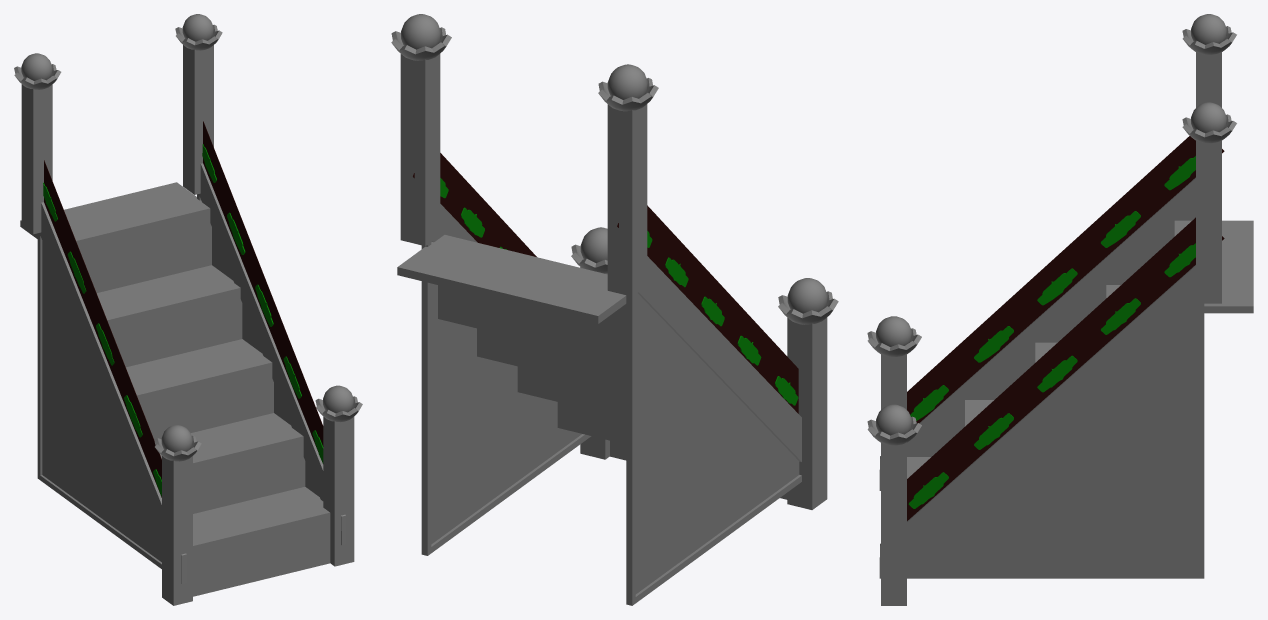
Rendered from Throne_Stair_gr.fbx.
3 renders of one model, left to right at view 1: azimuth 30°, elevation 25°; view 2: azimuth 150°, elevation 25°; view 3: azimuth 270°, elevation 25°, orthographic. The views are drawn at different scales.
Parts seen in each view (by area): view 1: Throne_Stair_F006, Throne_StairWall_013, Throne_StairWall_014, Group_7379, Throne_StairWall021, Throne_StairWall020, Group_7378, Group_7377, Group_7376, Throne_Stair_gr, Sphere087, Sphere093 (+6 smaller); view 2: Throne_StairWall_013, Throne_Stair_F006, Throne_StairWall_014, Group_7376, Group_7377, Throne_StairWall020, Group_7379, Throne_StairWall021, Throne_Stair_gr, Sphere093, Sphere087, Sphere089 (+4 smaller); view 3: Throne_StairWall_014, Throne_StairWall_013, Throne_StairWall021, Throne_StairWall020, Throne_Stair_gr, Throne_Stair_F006, Group_7376, Group_7378, Group_7377, Group_7379, Sphere091, Sphere087 (+6 smaller).
Part boxes in pixels (box(x1,y1,x2,y2)): Throne_Stair_F006: box(20, 182, 330, 596); Throne_StairWall_013: box(37, 202, 186, 583); Throne_StairWall_014: box(197, 163, 346, 545); Group_7379: box(162, 456, 192, 605); Throne_StairWall021: box(203, 121, 323, 451); Throne_StairWall020: box(44, 160, 161, 497); Group_7378: box(323, 416, 354, 566); Group_7377: box(21, 84, 52, 234); Group_7376: box(183, 45, 213, 194); Throne_Stair_gr: box(43, 144, 323, 496); Sphere087: box(182, 14, 213, 41); Sphere093: box(161, 425, 192, 452); Throne_StairWall_013: box(626, 256, 801, 605); Throne_Stair_F006: box(397, 235, 787, 499); Throne_StairWall_014: box(421, 204, 591, 555); Group_7376: box(400, 54, 440, 246); Group_7377: box(607, 104, 647, 296); Throne_StairWall020: box(617, 205, 798, 413); Group_7379: box(787, 317, 827, 509); Throne_StairWall021: box(413, 153, 536, 256); Throne_Stair_gr: box(440, 178, 798, 405); Sphere093: box(787, 278, 827, 313); Sphere087: box(401, 14, 440, 49); Sphere089: box(607, 64, 647, 99); Throne_StairWall_014: box(879, 265, 1204, 578); Throne_StairWall_013: box(879, 177, 1195, 490); Throne_StairWall021: box(907, 217, 1224, 520); Throne_StairWall020: box(907, 136, 1224, 422); Throne_Stair_gr: box(908, 156, 1195, 508); Throne_Stair_F006: box(907, 220, 1253, 478); Group_7376: box(1196, 140, 1221, 303); Group_7378: box(881, 442, 906, 605); Group_7377: box(1196, 51, 1221, 107); Group_7379: box(881, 354, 906, 409); Sphere091: box(876, 404, 911, 435); Sphere087: box(1191, 102, 1226, 133).
Size of the model in its own units: 110 by 230 by 162.
